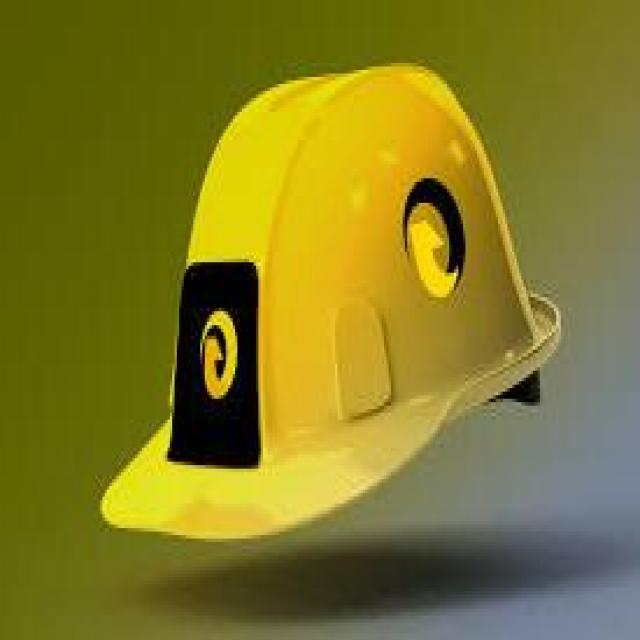Safety-Helmet: (100, 46, 566, 563)
